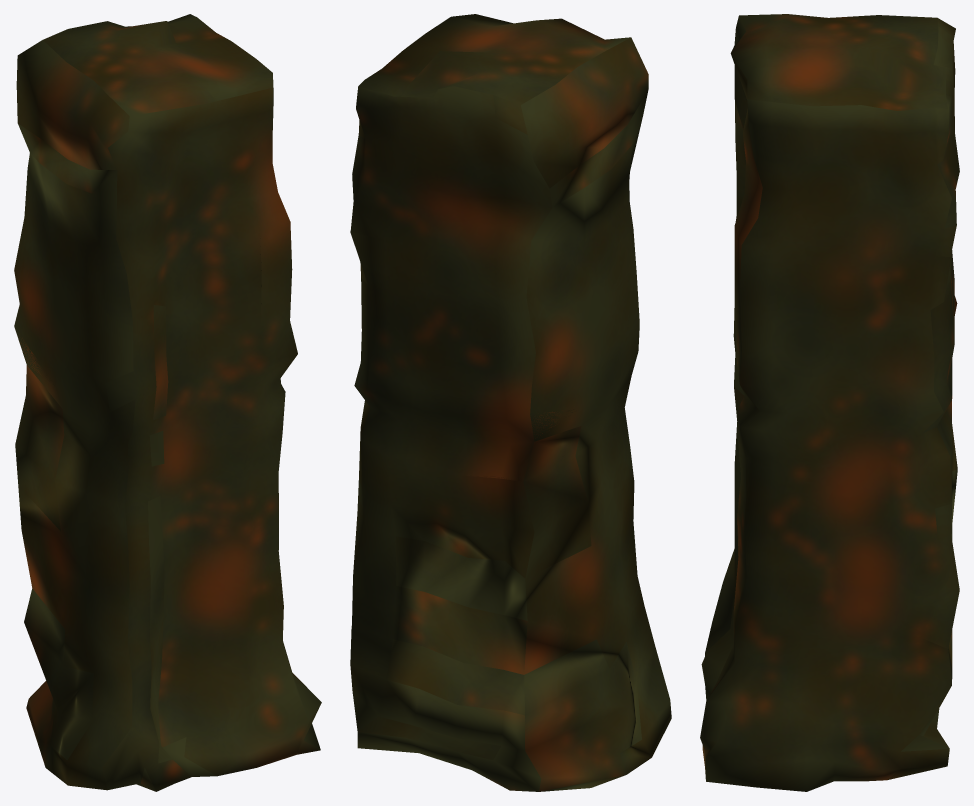
The model's file is wreckage.fbx.
3 views of the same model, side by side, from view 1: azimuth 30°, elevation 25°; view 2: azimuth 150°, elevation 25°; view 3: azimuth 270°, elevation 25° (orthographic). The views are drawn at different scales.
Visible parts, largest first — view 1: Low poly; view 2: Low poly; view 3: Low poly.
Part boxes in pixels (x1,y1,x2,y2): Low poly: (14, 14, 321, 791); Low poly: (350, 14, 671, 791); Low poly: (700, 14, 959, 791).
Size of the model in its own units: 140 by 129 by 397.
